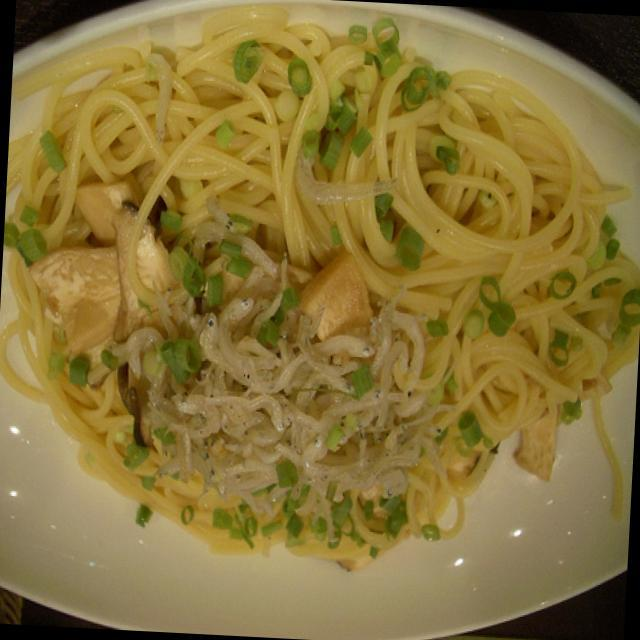Pasta: (1, 21, 640, 590)
